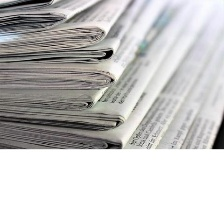news_paper: (0, 0, 224, 148)
